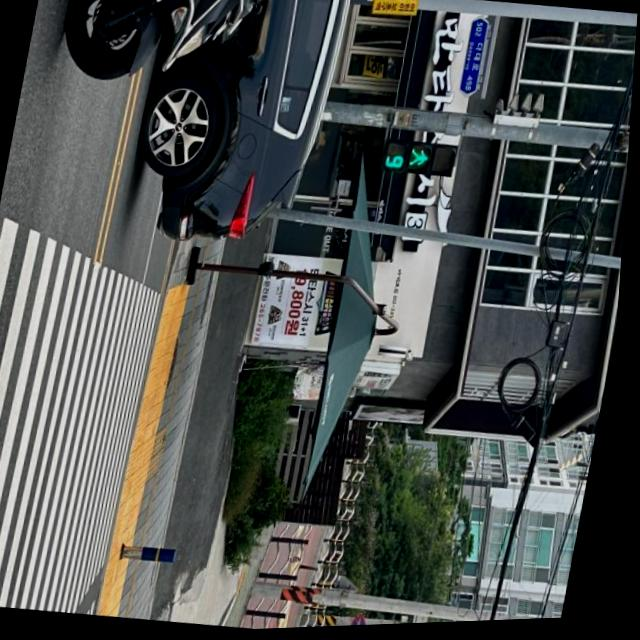green_light: (382, 142, 435, 180)
